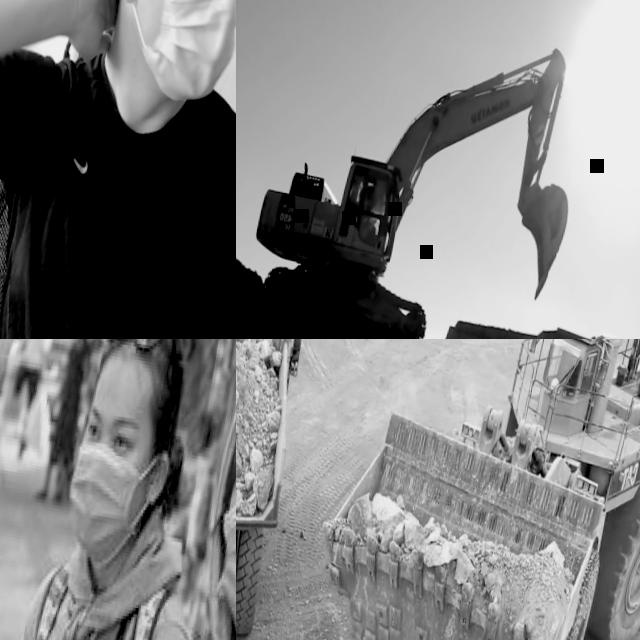Mask: (110, 0, 236, 108), (59, 443, 148, 575), (206, 486, 236, 640)
NO-Hardhat: (94, 339, 195, 412)
NO-Safety Vest: (0, 45, 236, 339), (10, 573, 181, 640), (59, 339, 91, 410), (21, 339, 52, 365)
Person: (0, 0, 236, 339), (0, 339, 236, 640), (158, 339, 236, 640), (32, 339, 98, 508), (1, 339, 60, 471), (353, 191, 383, 243)
machinery: (242, 2, 593, 339), (290, 339, 640, 640), (236, 339, 320, 640)
